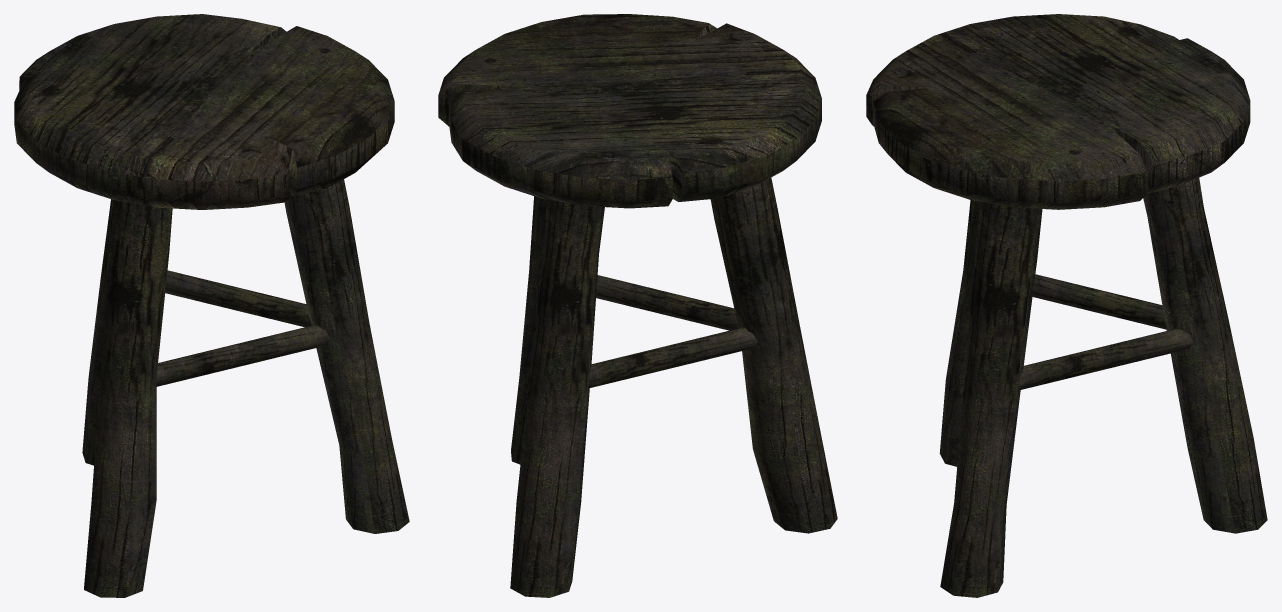
Rendered from G3_Object_Interact_Stool_01.obj.
3 renders of one model, left to right at view 1: azimuth 30°, elevation 25°; view 2: azimuth 150°, elevation 25°; view 3: azimuth 270°, elevation 25°, orthographic.
Parts seen in each view (by area): view 1: G3_Object_Interact_Stool_01_0; view 2: G3_Object_Interact_Stool_01_0; view 3: G3_Object_Interact_Stool_01_0.
Part boxes in pixels (<box>): G3_Object_Interact_Stool_01_0: <box>14,14,409,597</box>; G3_Object_Interact_Stool_01_0: <box>438,14,837,597</box>; G3_Object_Interact_Stool_01_0: <box>866,14,1267,597</box>.
Bounding box in the file's own units: 0.5339 × 0.6628 × 0.5583.
